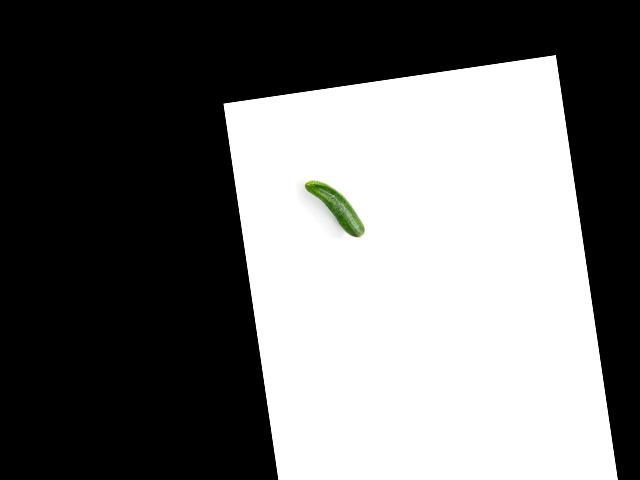cucumber: (303, 174, 365, 244)
